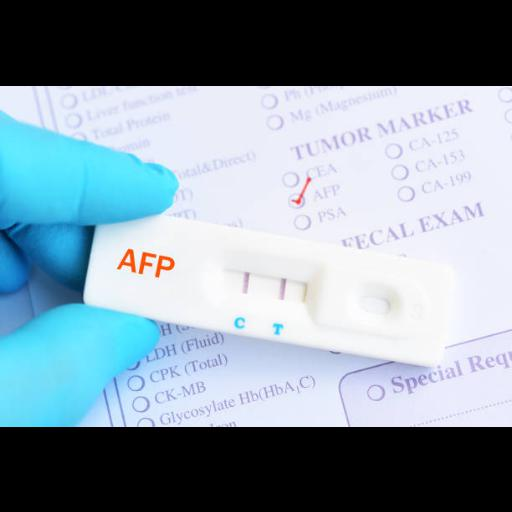Pos: (83, 204, 451, 367)
